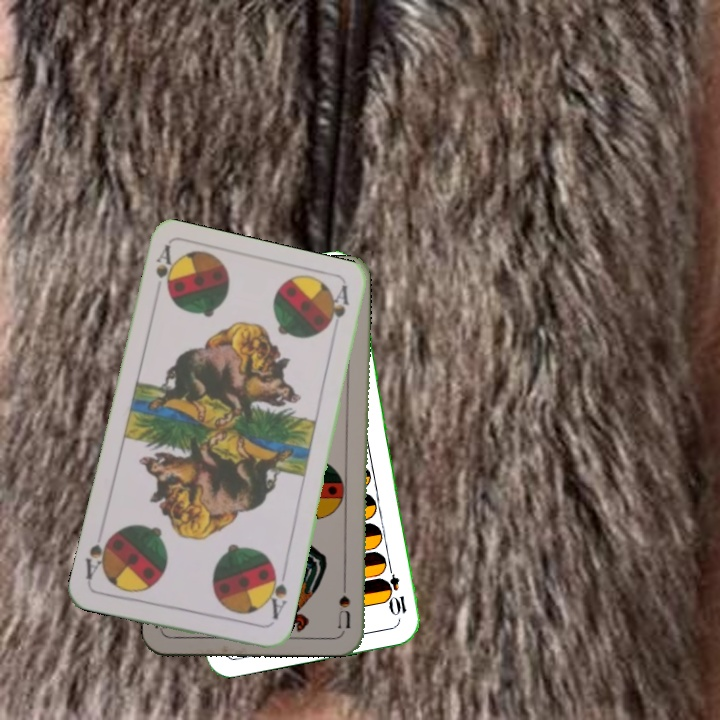E10: (379, 560, 409, 619)
SA: (262, 566, 290, 623), (151, 243, 180, 298)
SU: (335, 571, 353, 630)
